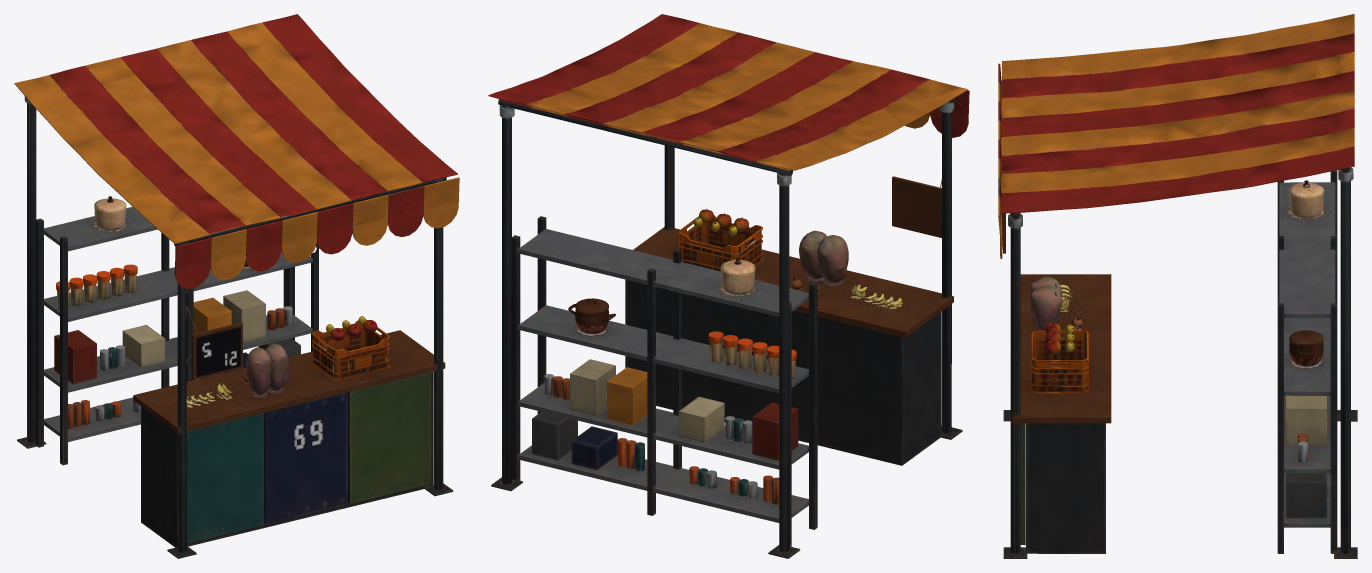
Rendered from market_stall.glb.
3 views of the same model, side by side, from view 1: azimuth 30°, elevation 25°; view 2: azimuth 150°, elevation 25°; view 3: azimuth 270°, elevation 25° (orthographic). The views are drawn at different scales.
Parts seen in each view (by area): view 1: market_stall; view 2: market_stall; view 3: market_stall.
Boxes of the visible parts, box(x1,y1,x2,y2) form: market_stall: box(14, 14, 459, 558); market_stall: box(488, 14, 969, 558); market_stall: box(998, 14, 1357, 558).
Size of the model in its own units: 2.1 by 2.55 by 2.1.
3 materials, 3 textured.
